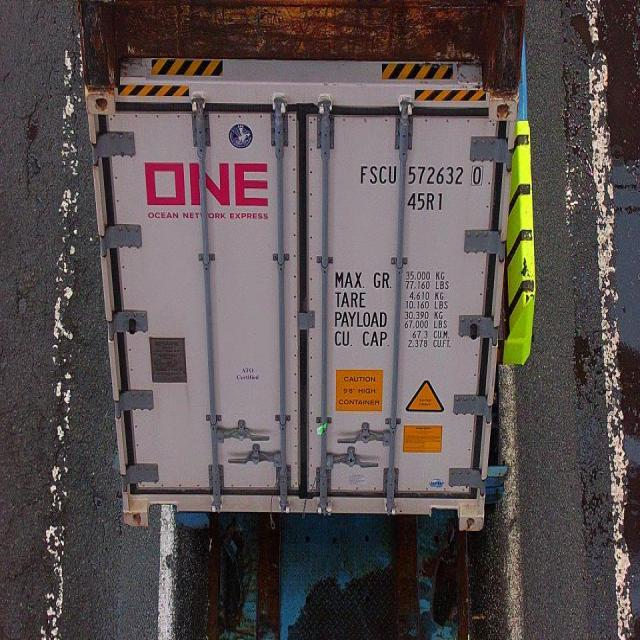ISO: (408, 190, 448, 211)
container_number: (358, 160, 492, 188)
